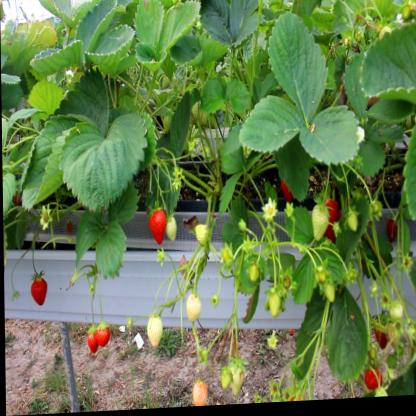ripe: (146, 212, 170, 245), (24, 281, 50, 309), (85, 327, 100, 359), (96, 322, 114, 347)
unripe: (158, 214, 185, 254), (139, 315, 164, 355), (311, 207, 331, 244), (263, 292, 286, 324), (187, 376, 209, 409), (227, 363, 245, 401), (191, 219, 210, 251), (184, 297, 203, 328), (248, 266, 263, 289)
